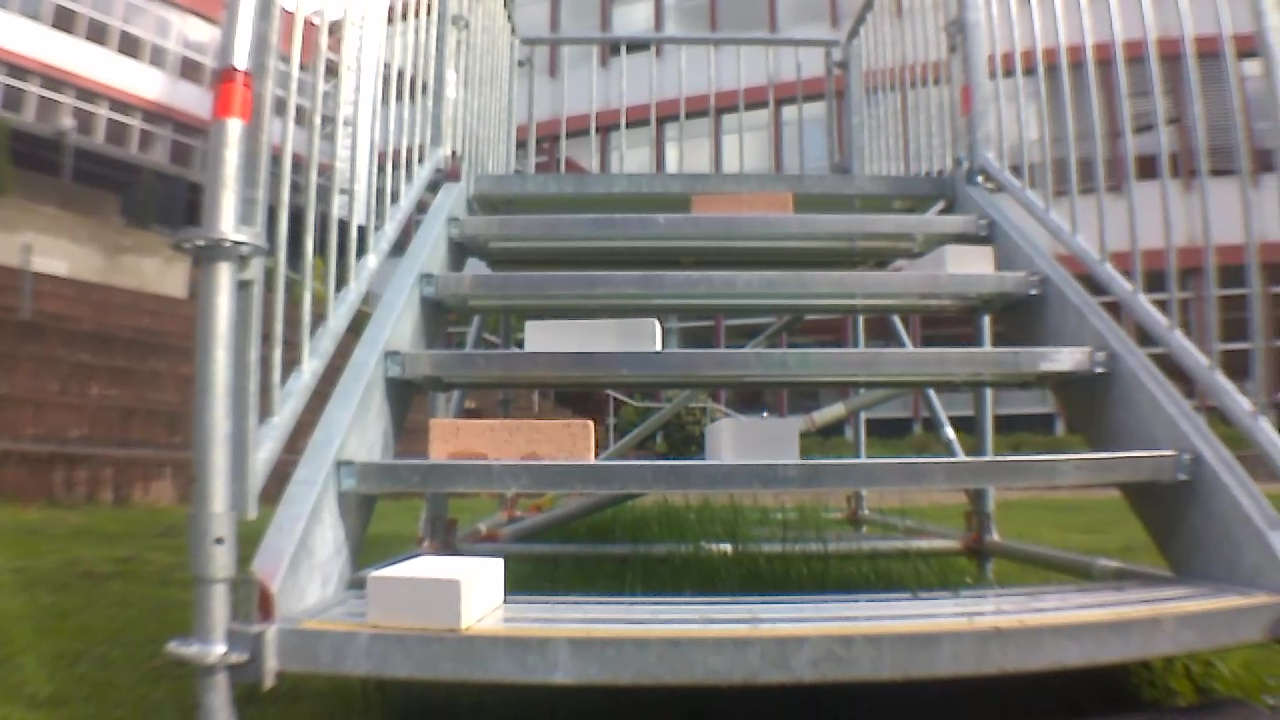brick: (362, 557, 506, 631), (425, 418, 600, 464), (522, 318, 662, 356), (706, 421, 807, 462), (902, 246, 1002, 279), (690, 190, 795, 216)
edge: (275, 603, 1280, 677), (333, 451, 1200, 492), (381, 345, 1113, 384), (417, 270, 1049, 302), (438, 214, 993, 239), (469, 171, 955, 195)
stairs: (203, 0, 1280, 703)
steps: (271, 170, 1280, 689)
